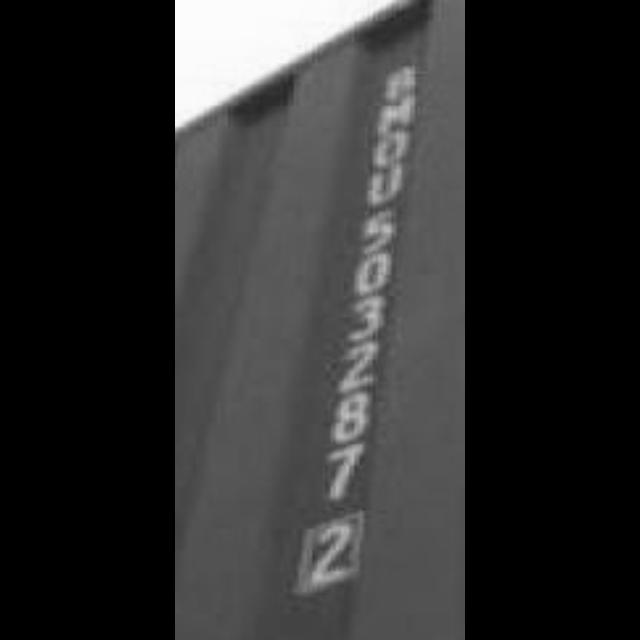0: (345, 250, 403, 300)
2: (301, 512, 365, 586), (332, 341, 388, 394)
3: (342, 296, 398, 346)
5: (348, 204, 408, 260)
7: (322, 442, 374, 510)
8: (322, 389, 378, 447)
b: (368, 55, 432, 107)
m: (376, 92, 418, 140)
o: (369, 126, 419, 180)
u: (359, 163, 415, 217)
